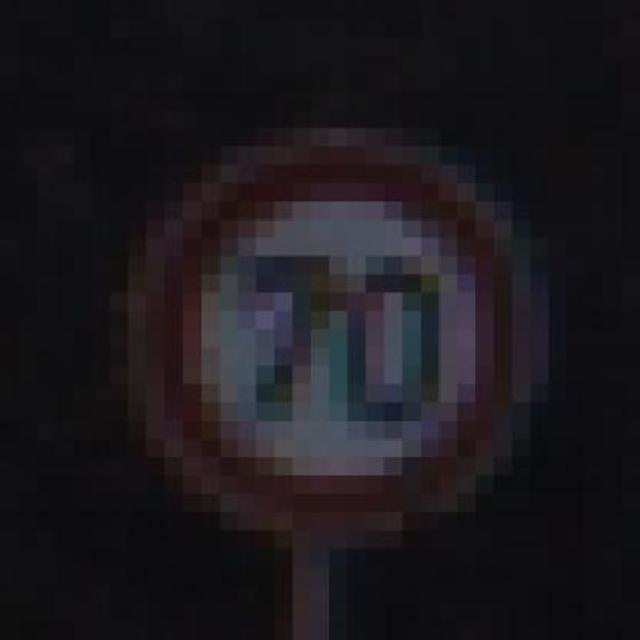forb_speed_over_70: (140, 152, 526, 518)
